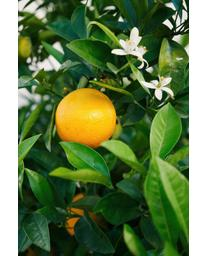lemon: (56, 89, 118, 146)
